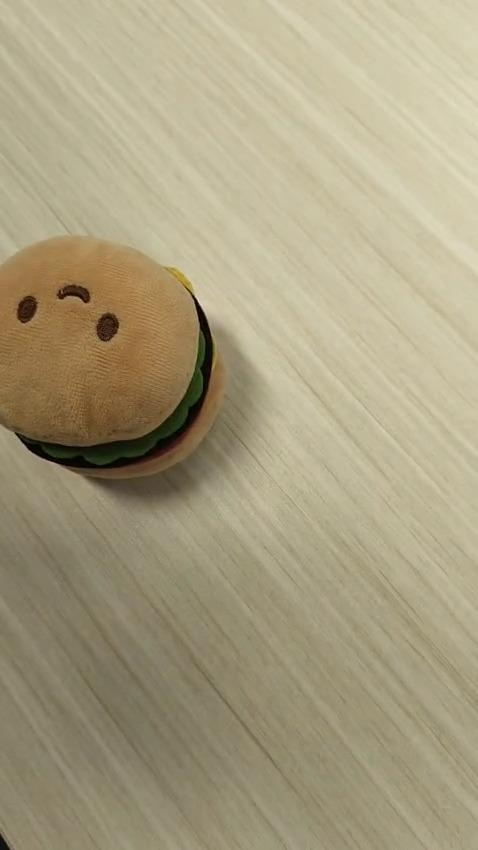hamburger: (0, 233, 225, 481)
